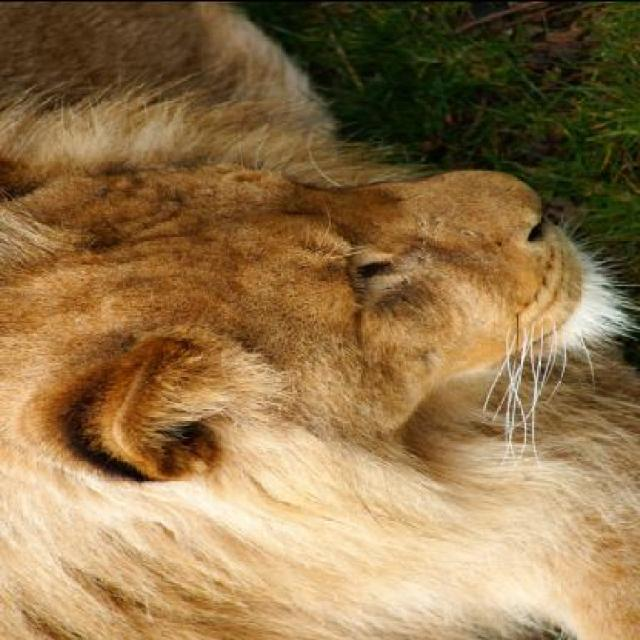Lion: (11, 54, 638, 611)
